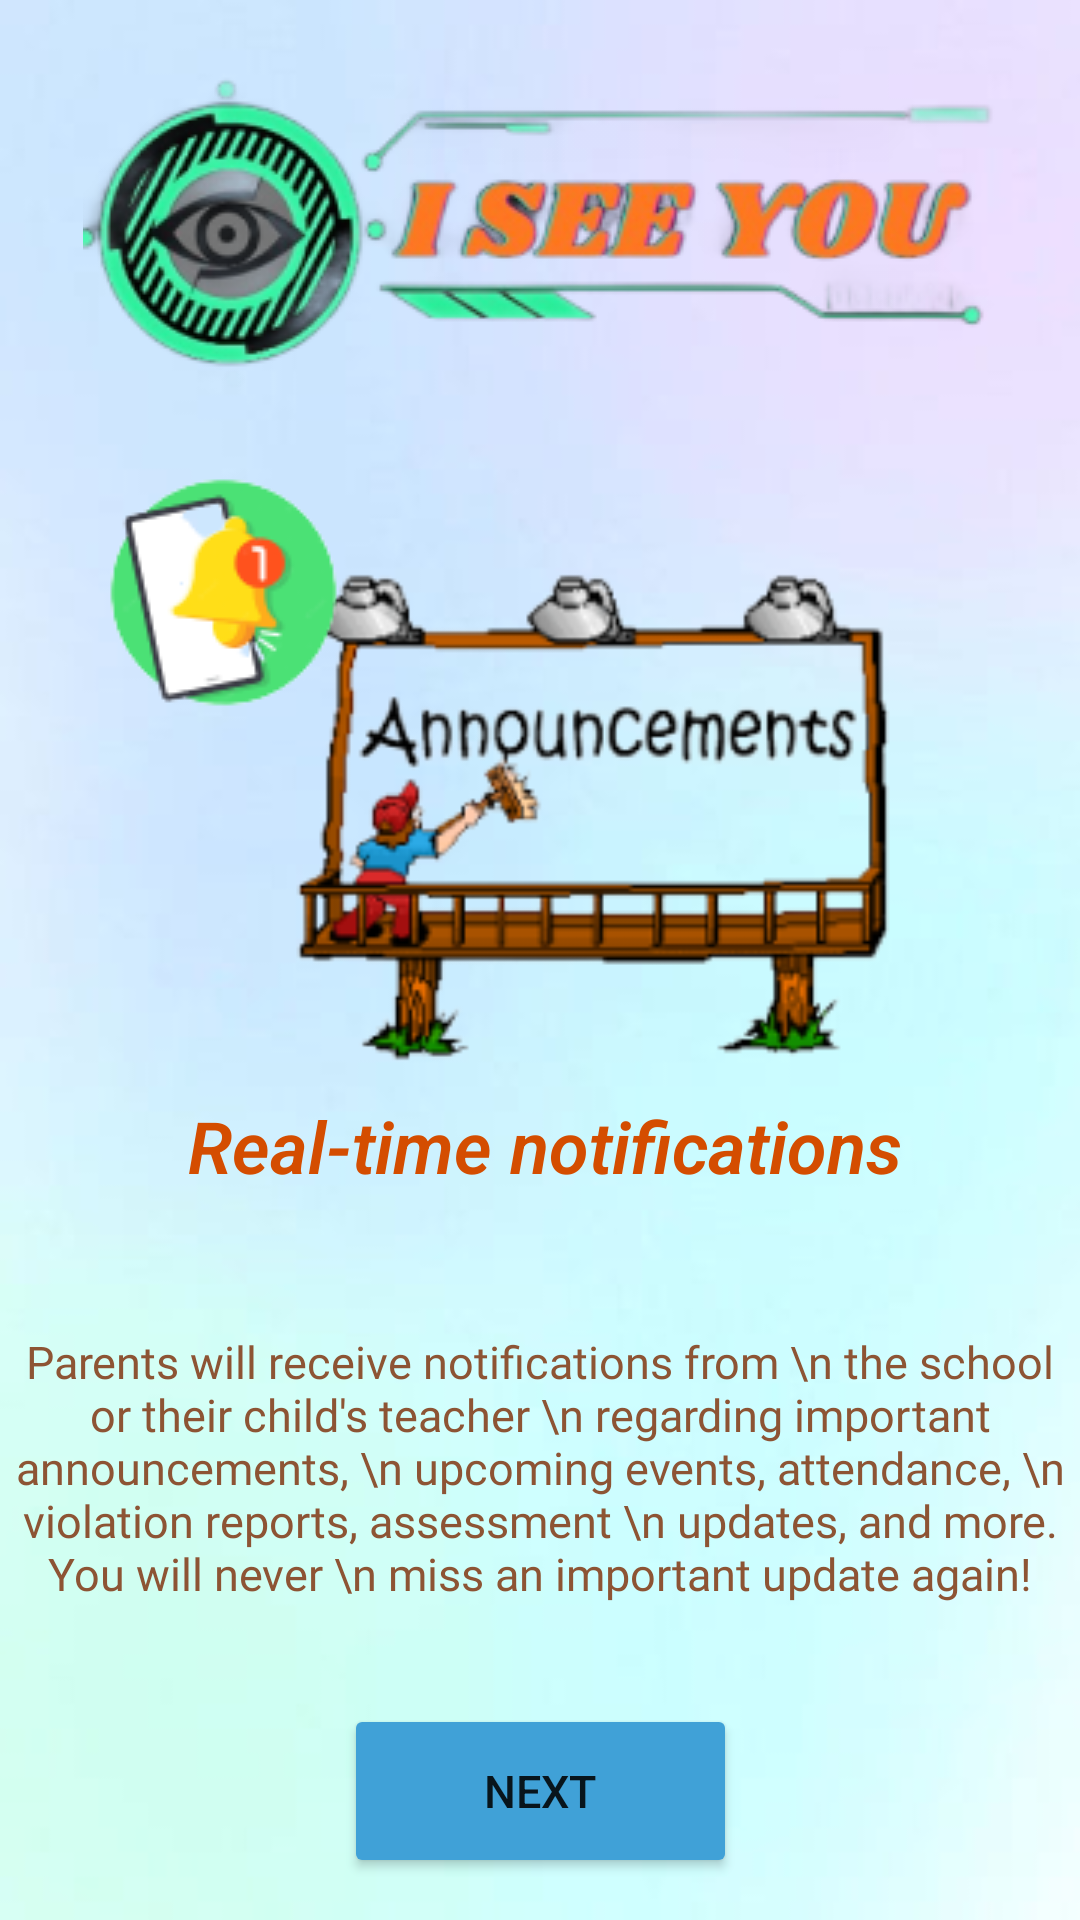

Icons on this 1080w x 1920h Android screen, each with the point to tap as [x,y]:
notifyphone: [232,596]
